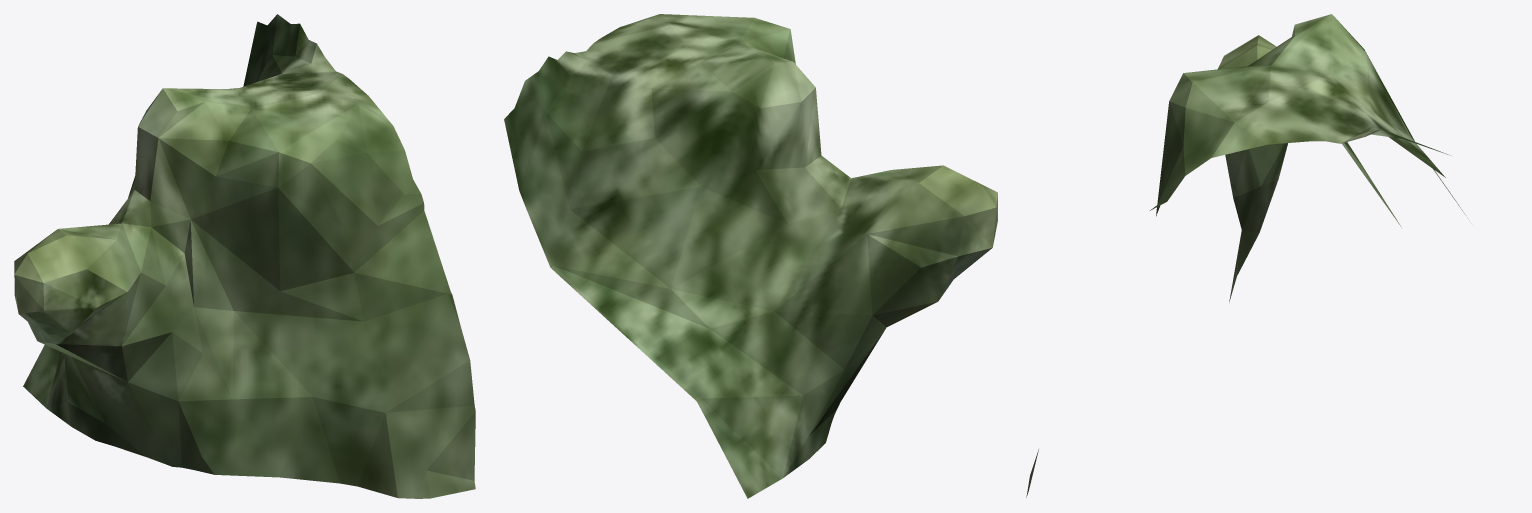
3 renders of one model, left to right at view 1: azimuth 30°, elevation 25°; view 2: azimuth 150°, elevation 25°; view 3: azimuth 270°, elevation 25°, orthographic. The views are drawn at different scales.
Size of the model in its own units: 1 by 0.9221 by 1.06.
1 material, 1 textured.
